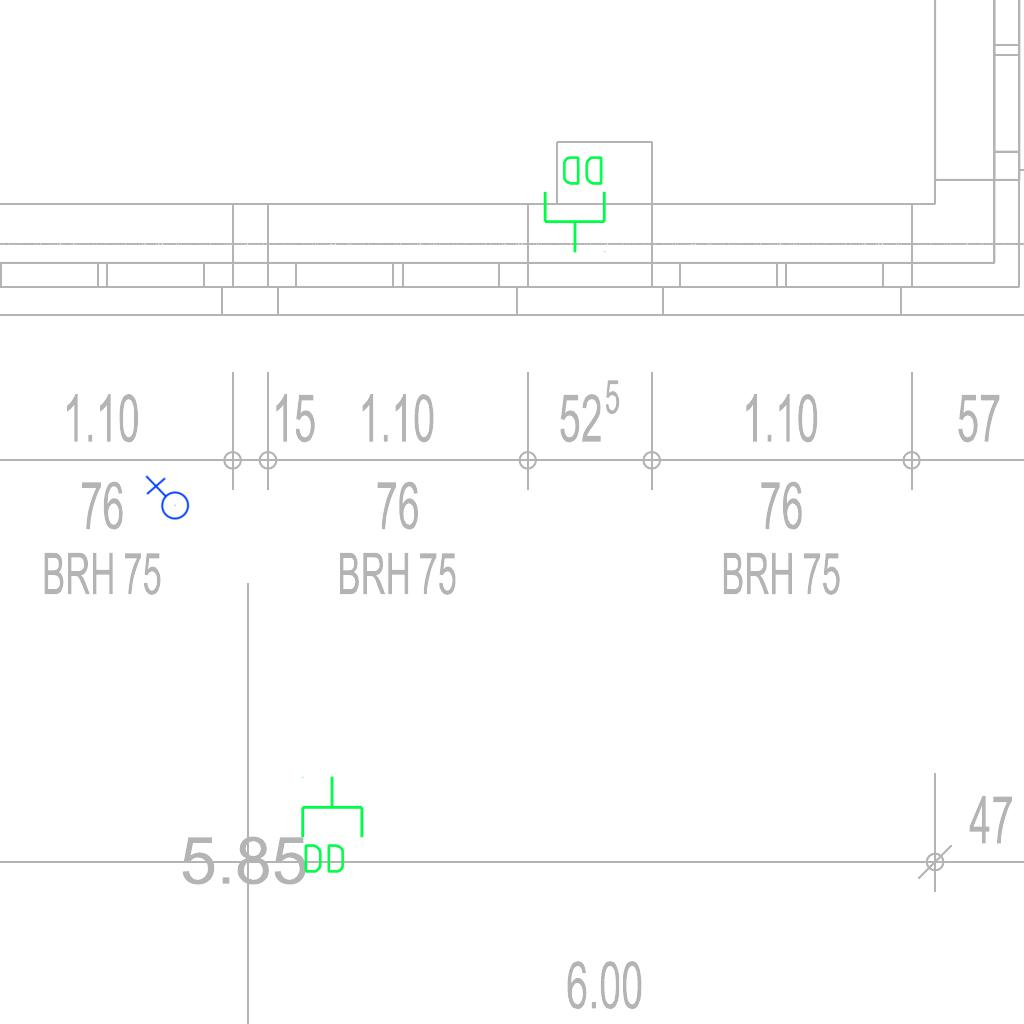Datenanschluss_zweifach: (541, 152, 610, 255), (297, 774, 366, 877)
Elektroanschluss_allgemein_230V_Geraeteanschlussdose_230V: (143, 475, 190, 524)
